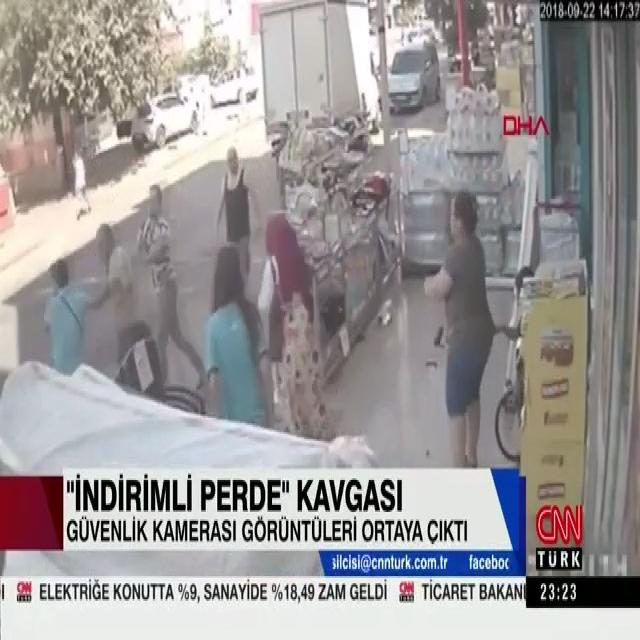fight: (40, 218, 143, 384)
